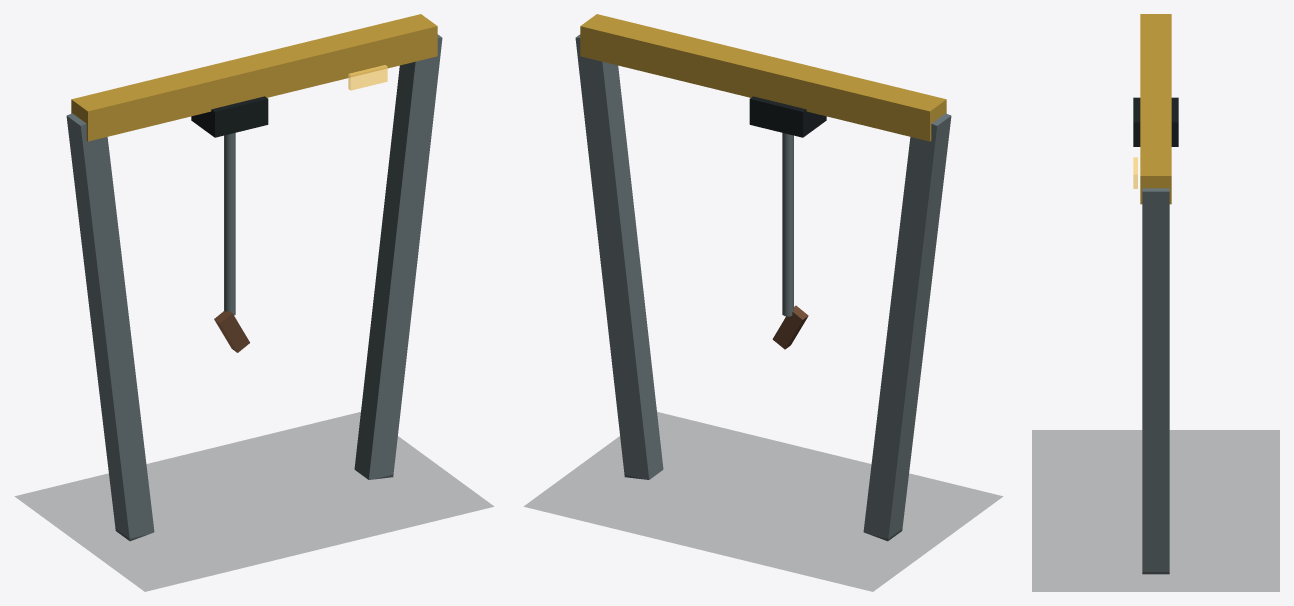
File: hp_room_rm_maint_gantry_hoist.glb
The picture shows the model from 3 angles, left to right: view 1: azimuth 30°, elevation 25°; view 2: azimuth 150°, elevation 25°; view 3: azimuth 270°, elevation 25°; orthographic projection. The views are drawn at different scales.
Parts seen in each view (by area): view 1: contact_shadow, a_leg_right, cross_beam, a_leg_left, chain_fall, trolley, hook, load_tag; view 2: contact_shadow, a_leg_right, cross_beam, a_leg_left, chain_fall, trolley, hook; view 3: contact_shadow, a_leg_right, cross_beam, trolley.
Part boxes in pixels (x1=…): contact_shadow: x1=15, y1=412, x2=493, y2=591; a_leg_right: x1=354, y1=34, x2=442, y2=479; cross_beam: x1=71, y1=14, x2=437, y2=141; a_leg_left: x1=66, y1=113, x2=154, y2=541; chain_fall: x1=224, y1=133, x2=235, y2=315; trolley: x1=191, y1=96, x2=268, y2=137; hook: x1=214, y1=311, x2=249, y2=352; load_tag: x1=348, y1=65, x2=387, y2=90; contact_shadow: x1=524, y1=412, x2=1002, y2=591; a_leg_right: x1=575, y1=34, x2=663, y2=479; cross_beam: x1=580, y1=14, x2=946, y2=141; a_leg_left: x1=863, y1=113, x2=951, y2=541; chain_fall: x1=782, y1=133, x2=793, y2=316; trolley: x1=749, y1=96, x2=826, y2=137; hook: x1=772, y1=305, x2=808, y2=349; contact_shadow: x1=1032, y1=430, x2=1279, y2=591; a_leg_right: x1=1142, y1=188, x2=1169, y2=574; cross_beam: x1=1140, y1=14, x2=1171, y2=204; trolley: x1=1133, y1=97, x2=1178, y2=146.
Size of the model in its own units: 1.76 by 2.05 by 1.1.
